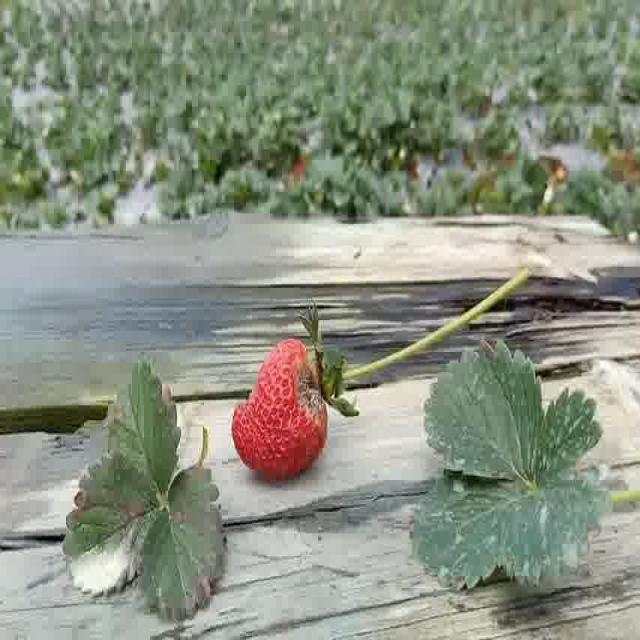Mancha negra Antracnosis: (228, 343, 330, 475)
